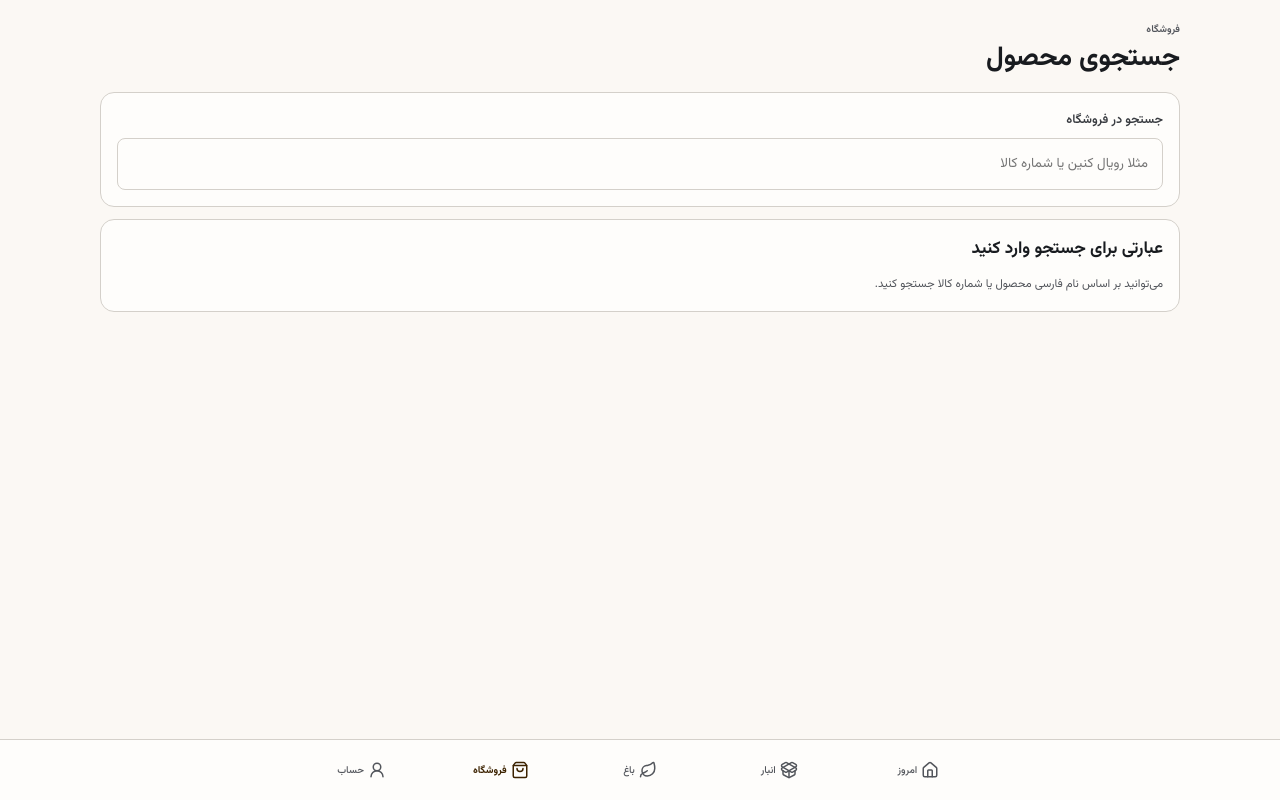
OfferSearch › shows a query-specific empty state when nothing matches
This screenshot has width=1280, height=800.
Type "zzz" into the field labelled "جستجو در فروشگاه". click: x=640, y=164
box: left=117, top=138, right=1163, bottom=190
Then press Enter
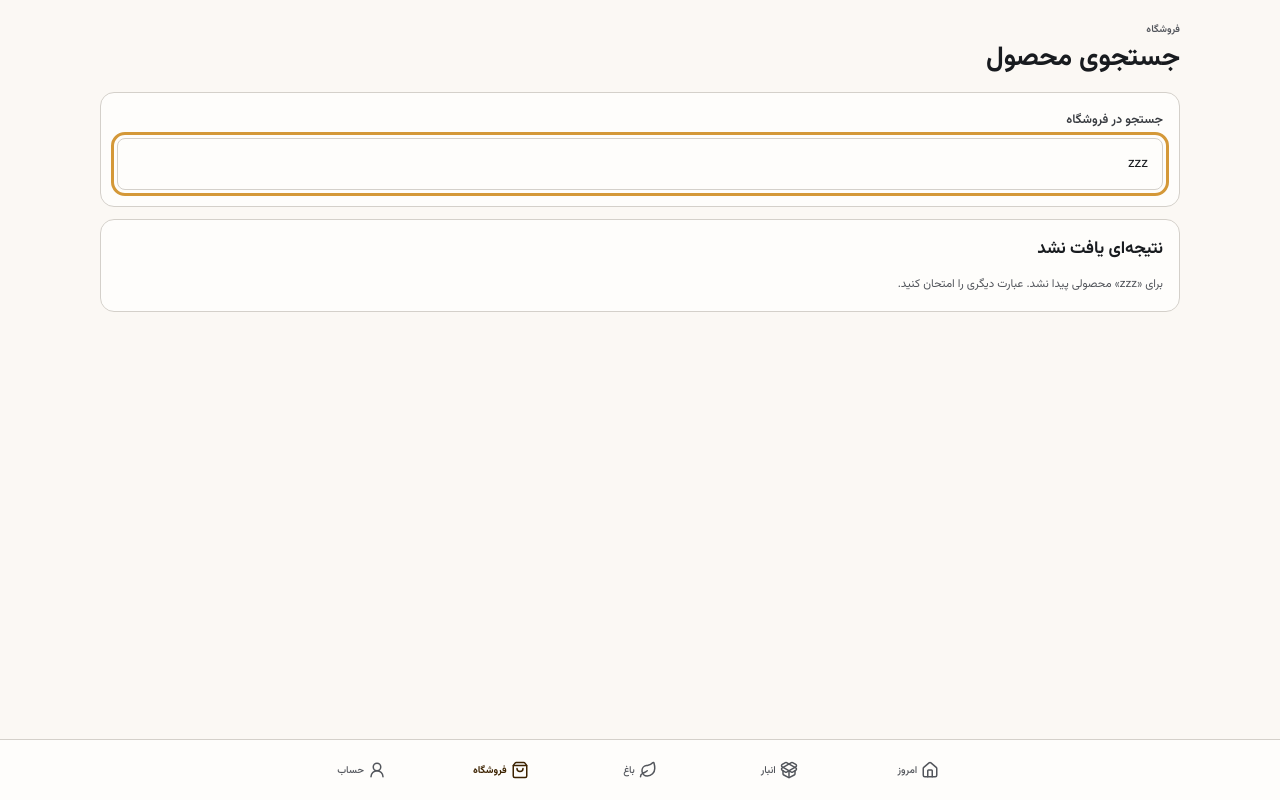
Result: the text "نتیجه‌ای یافت نشد" is shown at left=1037, top=236, right=1163, bottom=262
